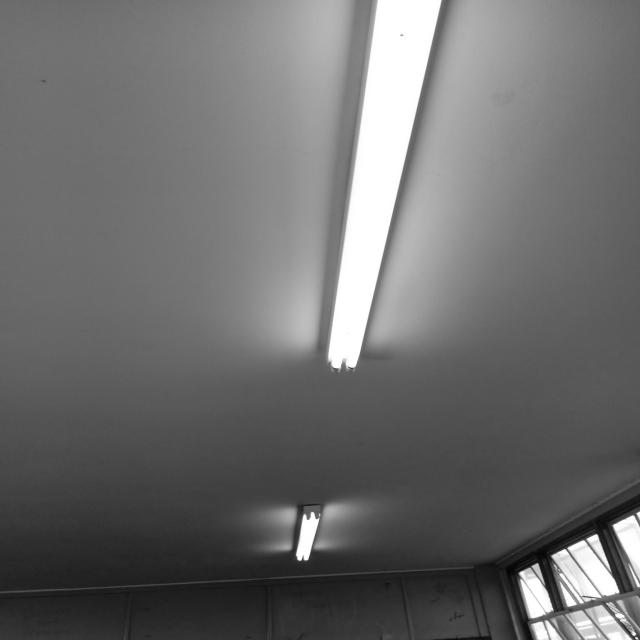light: (324, 0, 443, 372), (294, 504, 322, 562)
